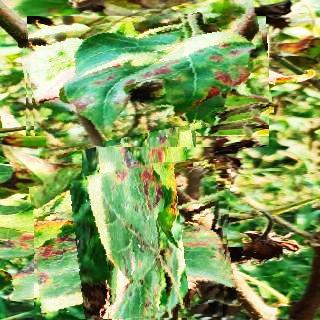blight: (22, 5, 269, 147), (34, 162, 232, 320)
